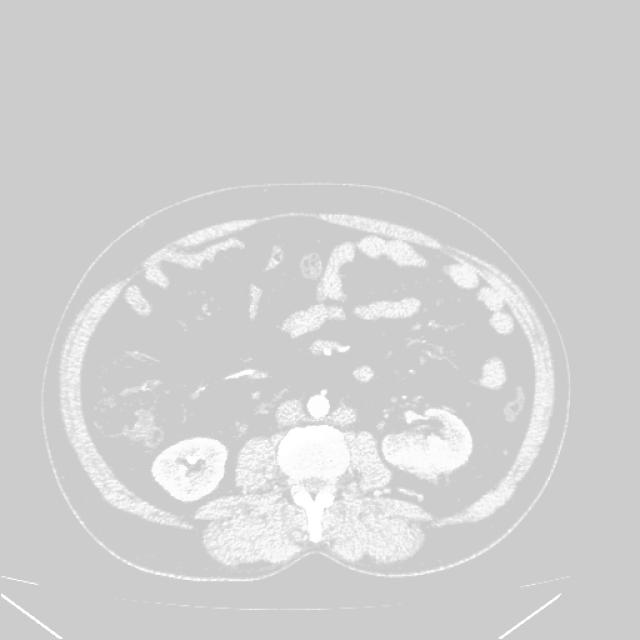TUMOR: (97, 297, 557, 499)
